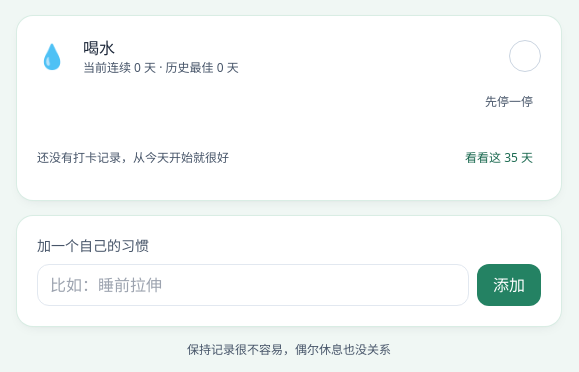
GAP-11 · 停用与重新开始的动作 › 点「先停一停」→ PATCH /habits/:id，body 恰为 {isActive:false}；该条移出主列表
Click the button with test id "habit-stop-1" at point(509, 102), box [477, 80, 541, 124]
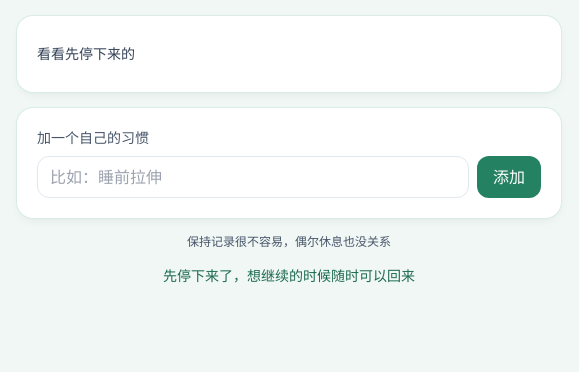
Expected: the button with test id "habit-check-1" is gone
Expected: the button with test id "habit-stopped-toggle" is shown, [33, 32, 139, 76]
Expected: the text "先停下来了，想继续的时候随时可以回来" is shown, [163, 266, 415, 285]
